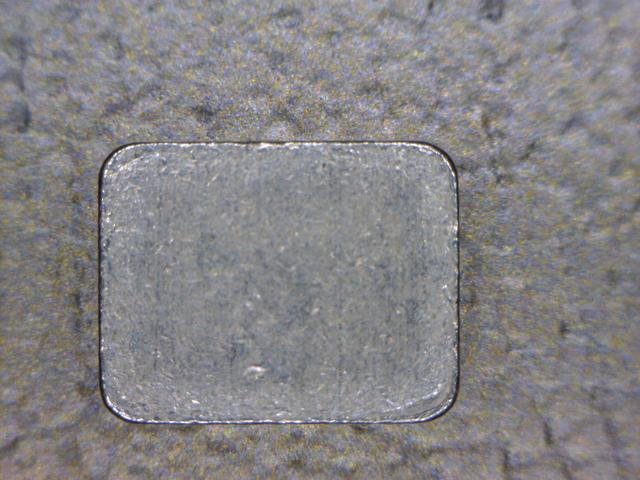ok: (90, 135, 471, 431)
